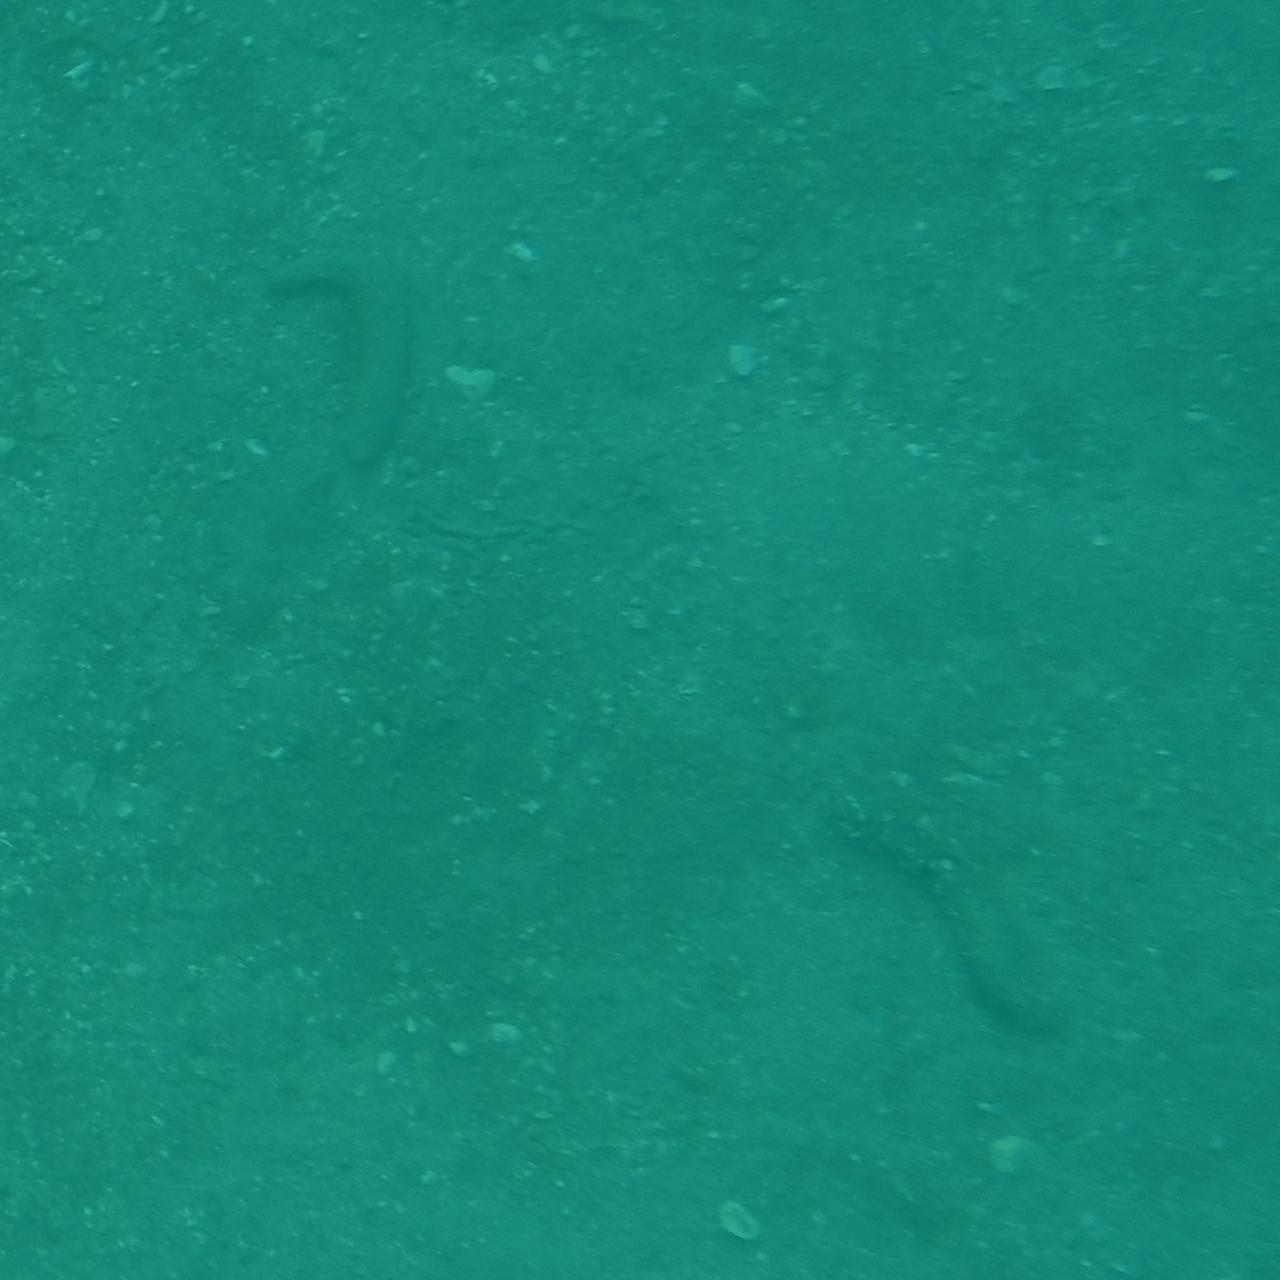Holothuria tubulosa: (815, 777, 1080, 1075), (244, 227, 422, 481)
